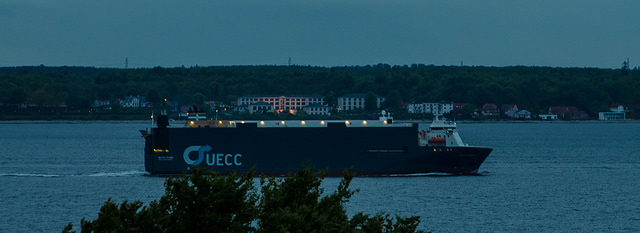PCC: (142, 101, 503, 177)
